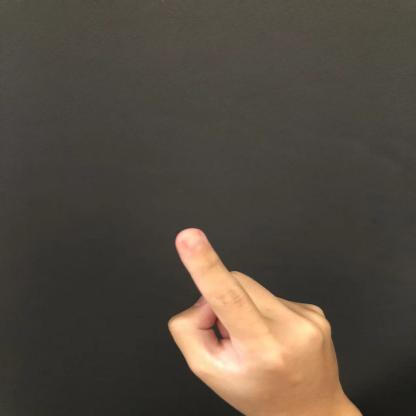finger_point: (174, 185, 252, 348)
